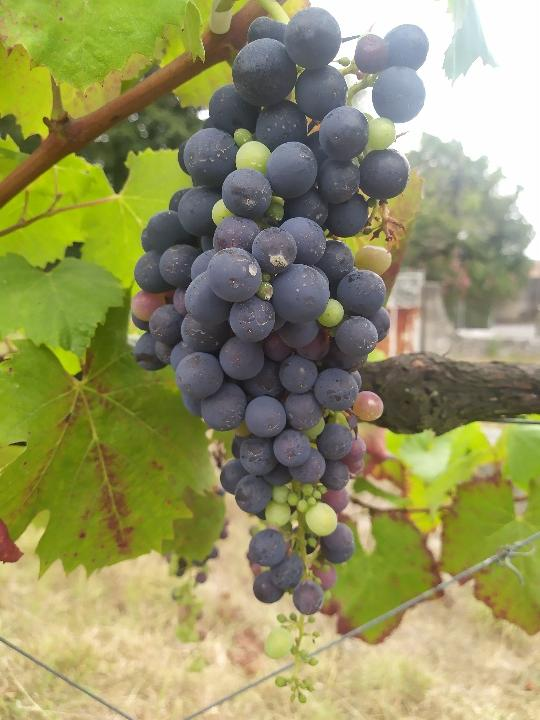grape: (130, 5, 430, 708)
